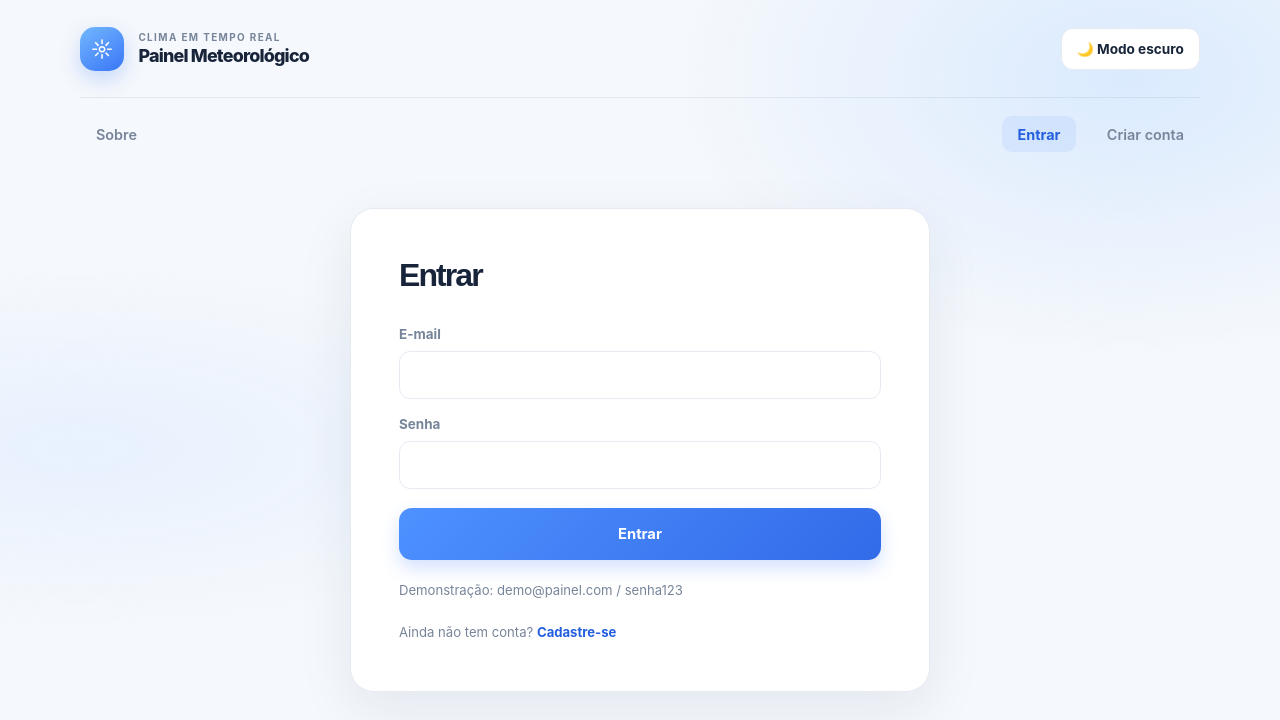
Test: Fluxo de autenticação (integração) › faz login, salva o token e libera o painel
The width and height of the screenshot is (1280, 720).
In the field labelled "E-mail": (640, 375) [399,351,881,399], type "demo@painel.com"
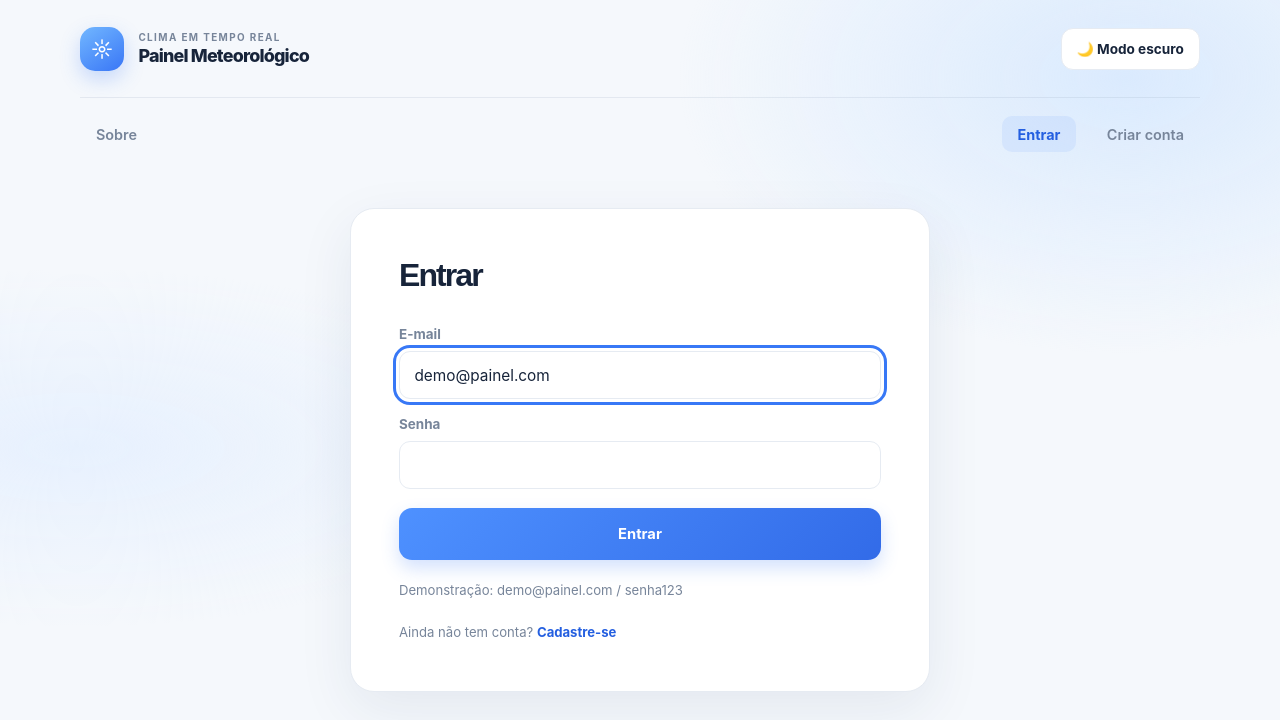
In the password field labelled "Senha": (640, 465) [399,441,881,489], type "senha123"
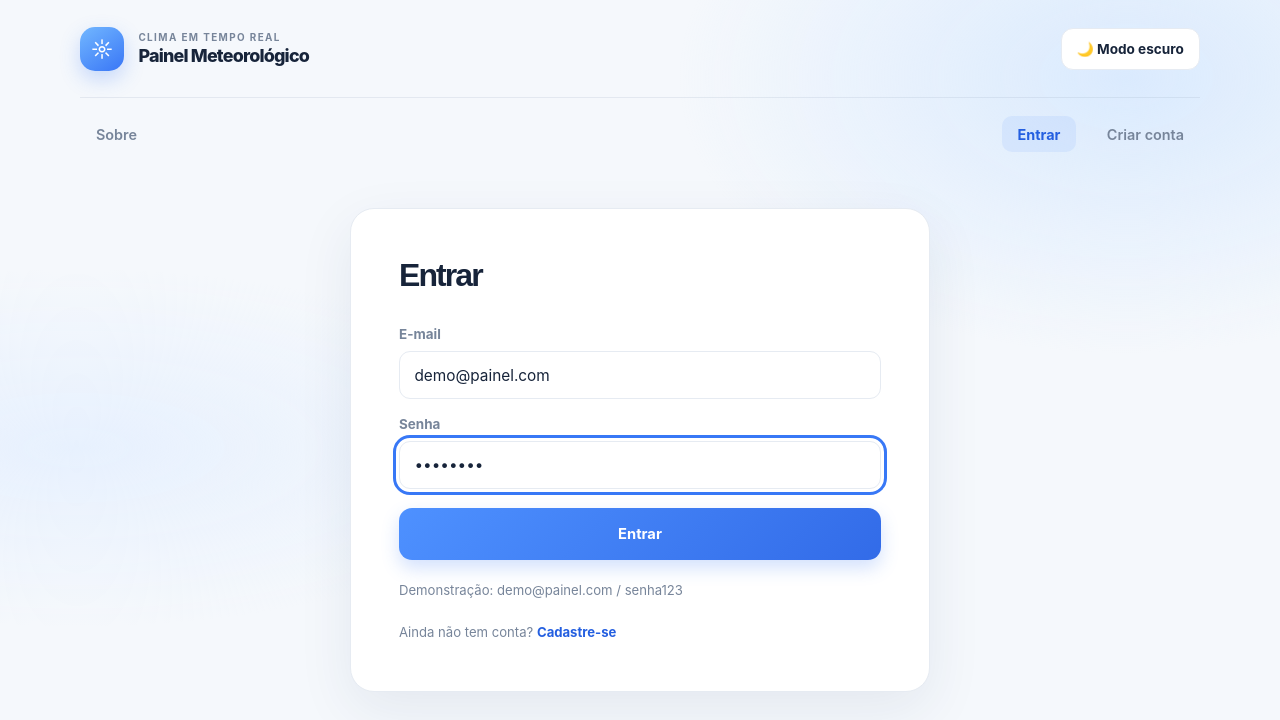
Click the button "Entrar": click(640, 534) [399,508,881,560]
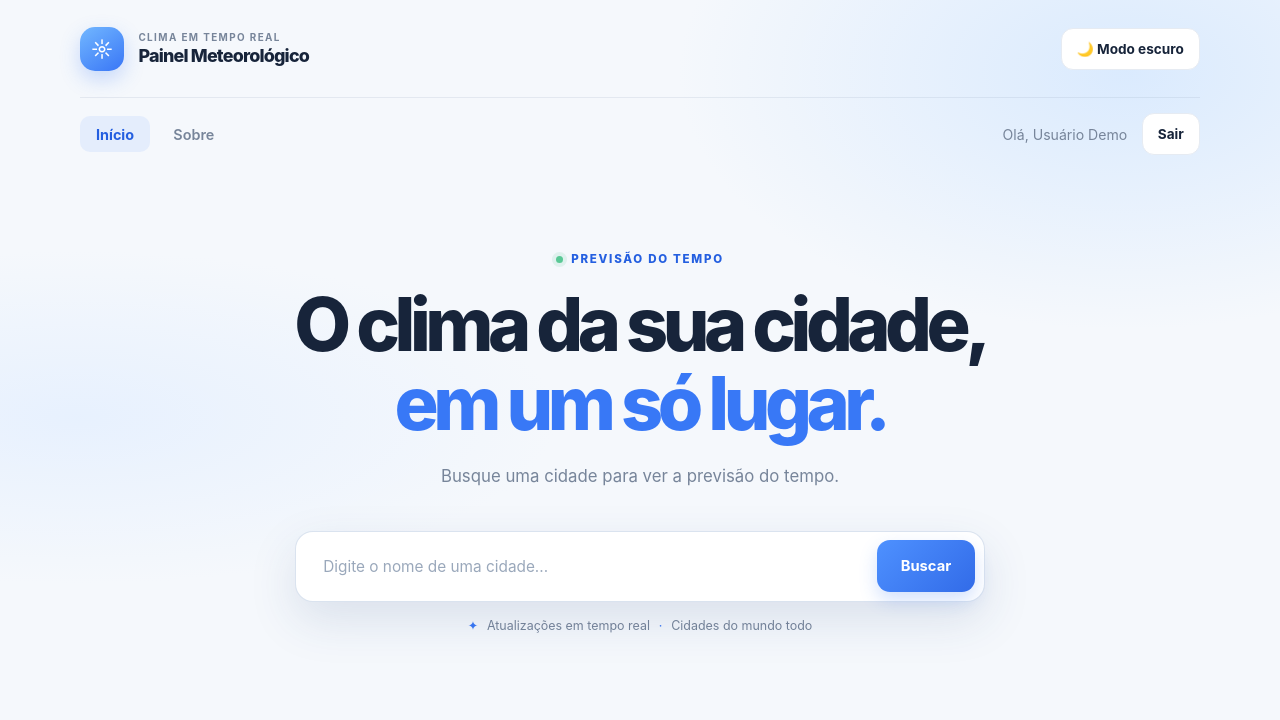
Expected: the dropdown with placeholder "Digite o nome de uma cidade..." is shown, [305,540,868,592]
Expected: the text "Olá, Usuário Demo" is shown, [1003,126,1127,142]
